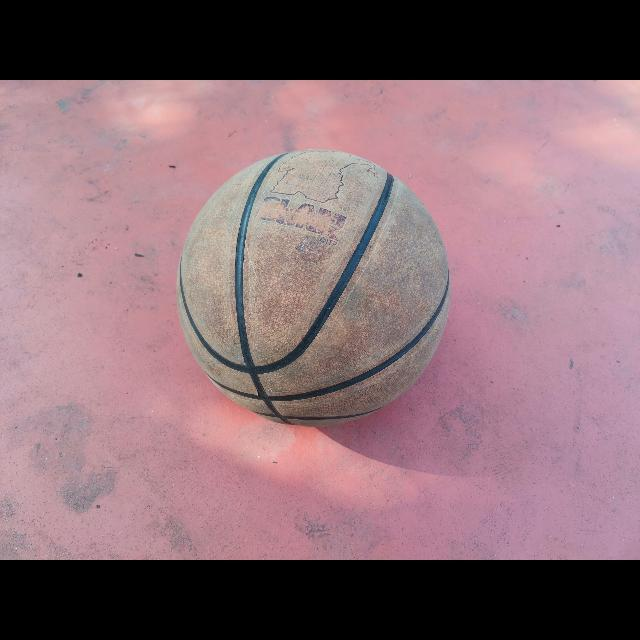basketball: (179, 150, 451, 426)
